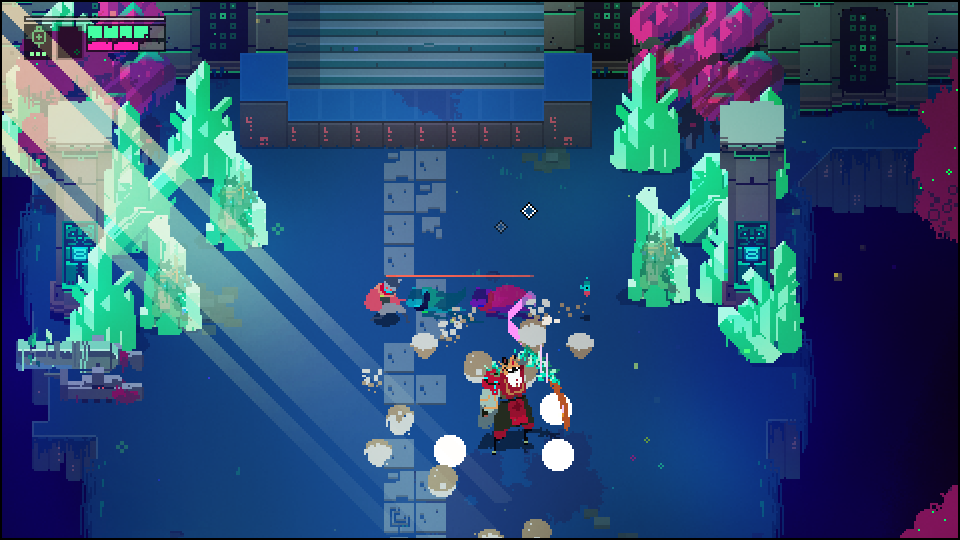hanged_man: (473, 357, 570, 446)
player: (360, 276, 406, 318)
